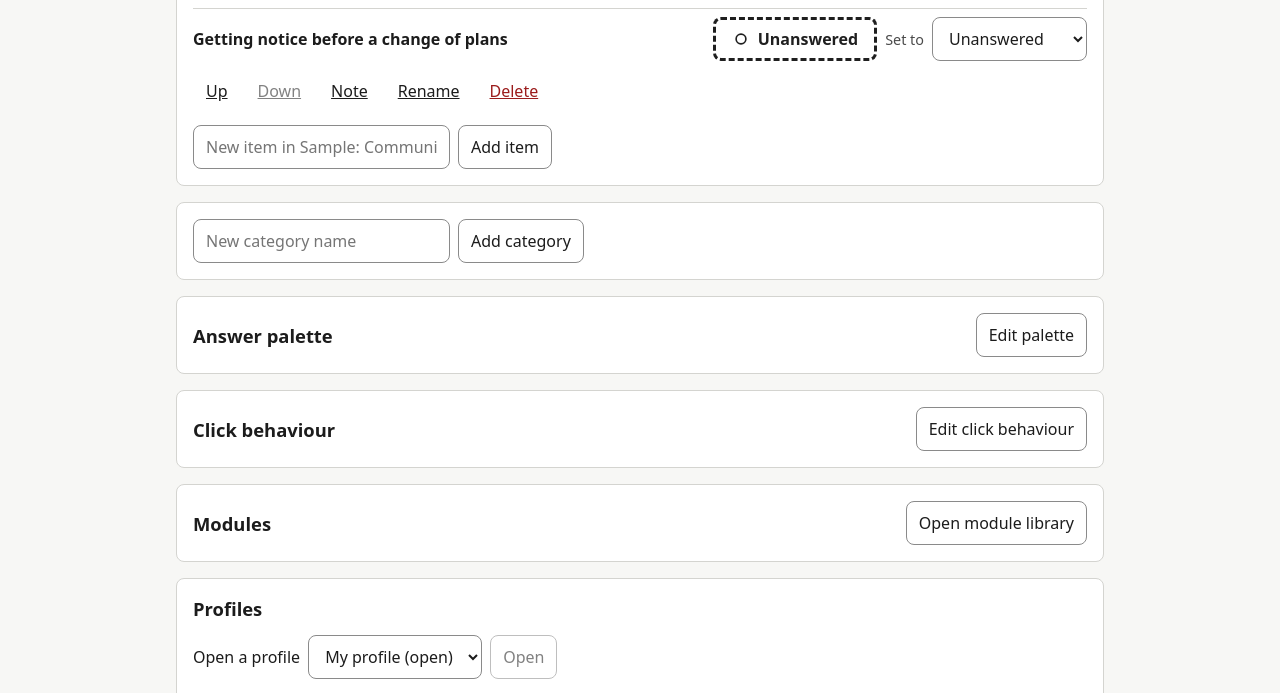
Test case: opening the palette › is closed until asked for, then lists the cycle in order with fixed Unanswered
(page scrolled)
Click the button "Edit palette".
click(1031, 335)  # box [976,313,1087,357]
(page scrolled)
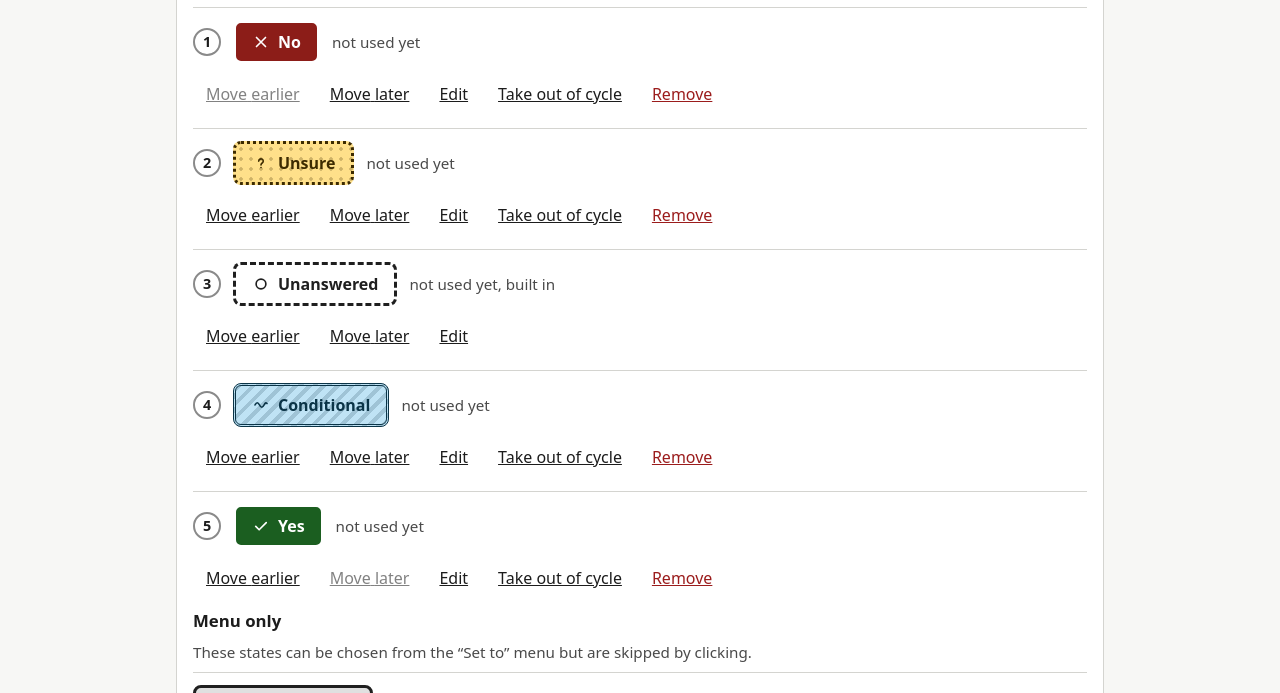
Check: the button named "Edit Unanswered" is shown, box [426,314,481,358]
